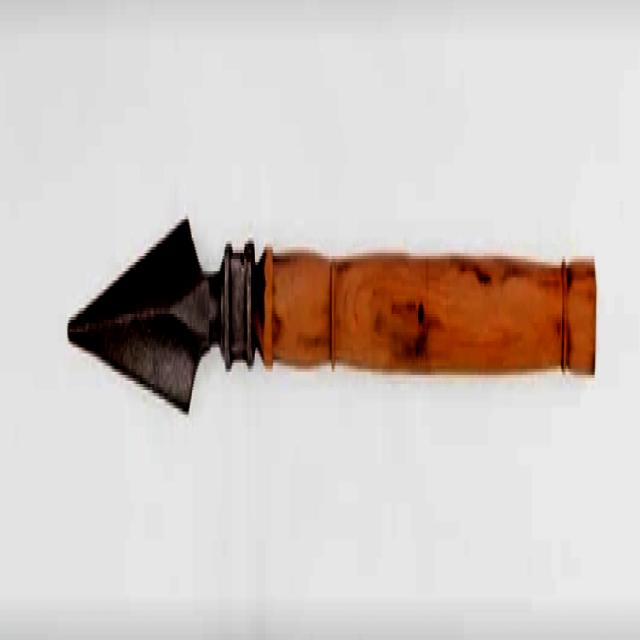spear: (55, 191, 604, 469)
